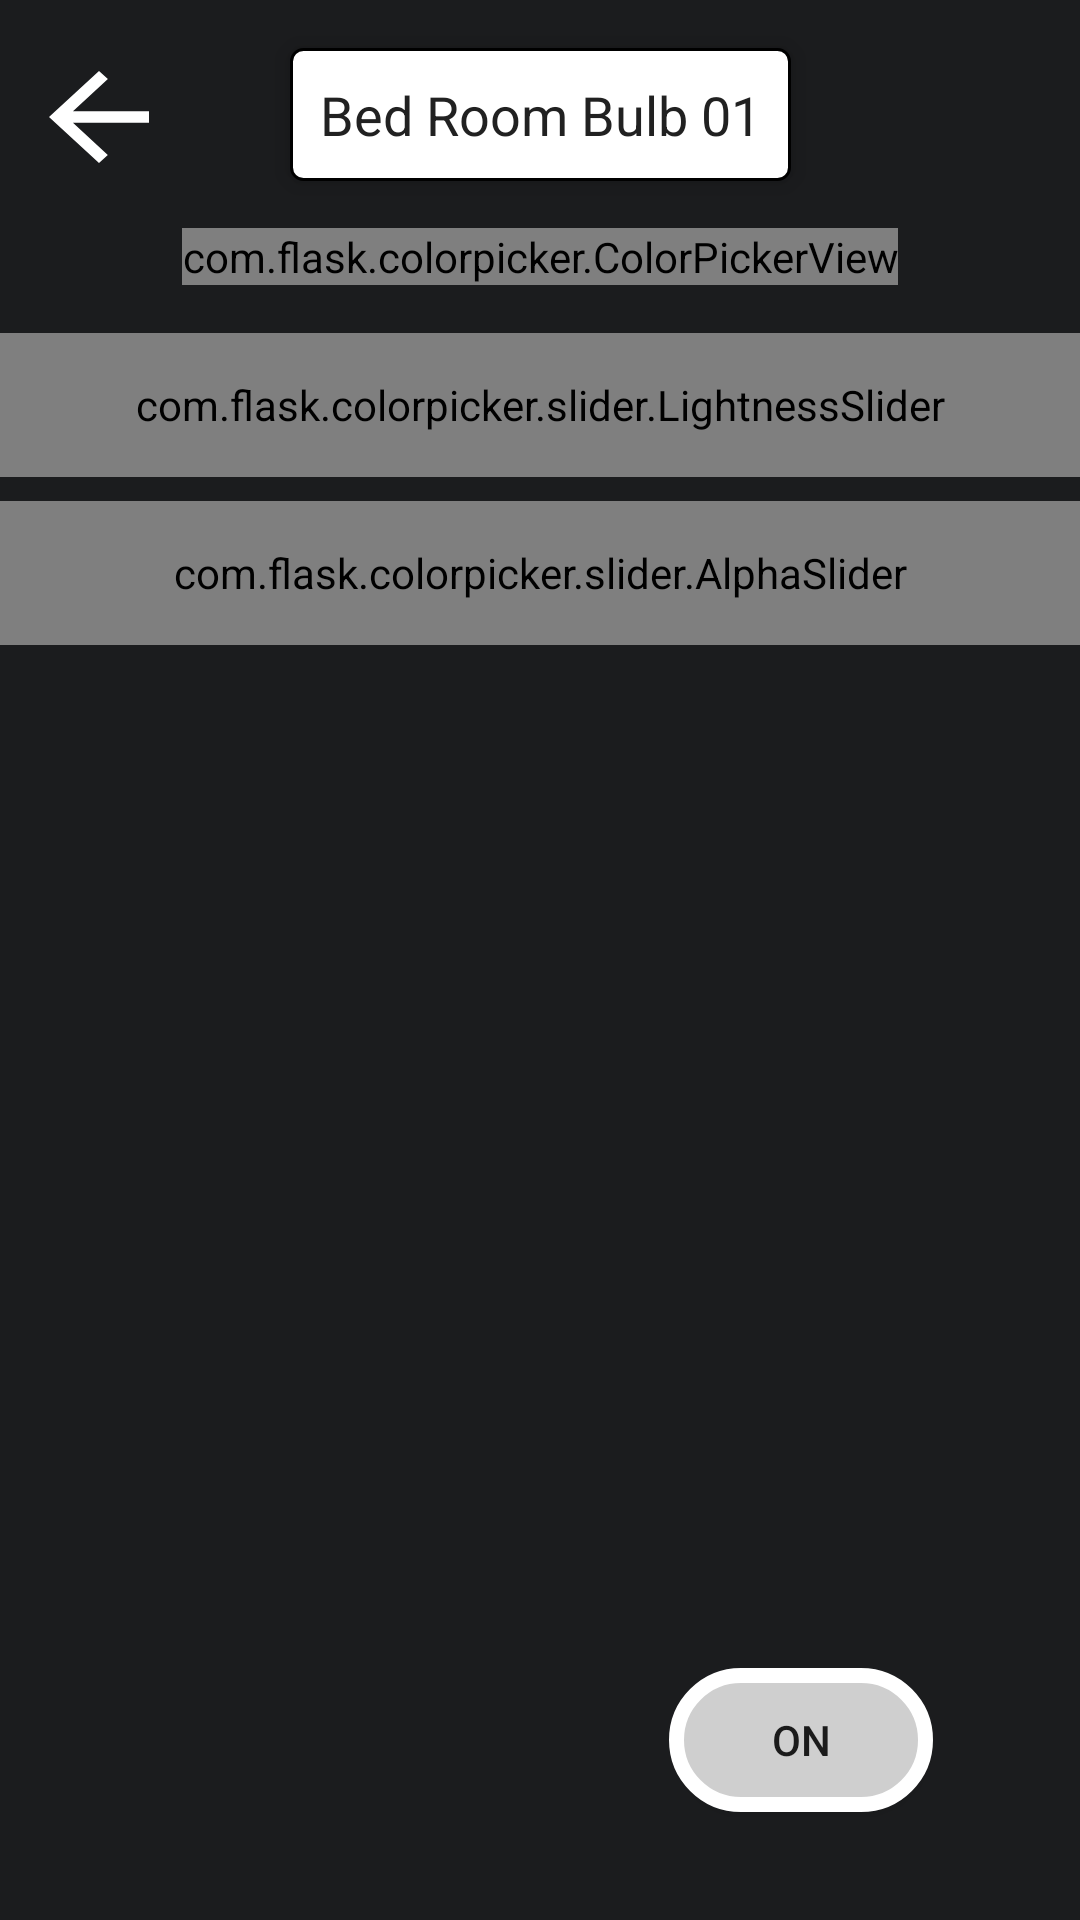

Named icons in this screenshot (1080*1920) and their bounding boxes, (x1, y1, x2, y2):
back: (49, 71, 149, 163)
